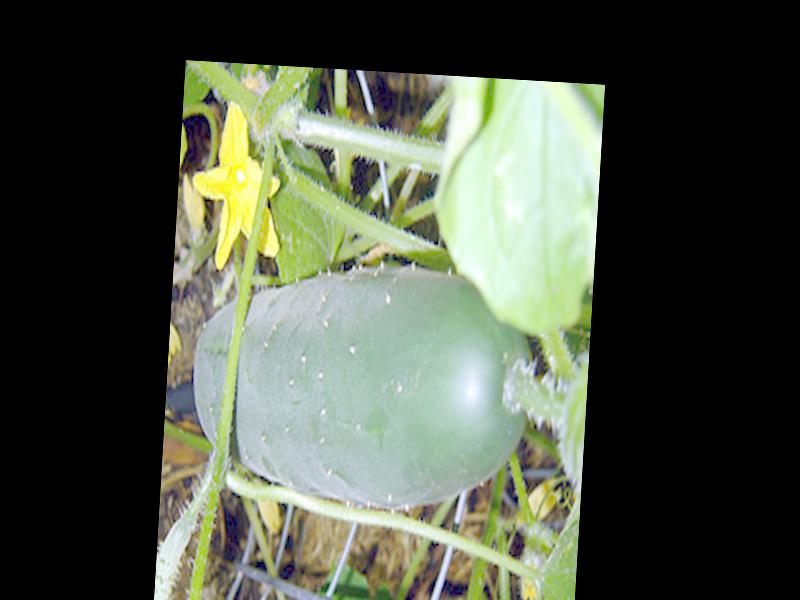Cucumber: (189, 255, 542, 514)
